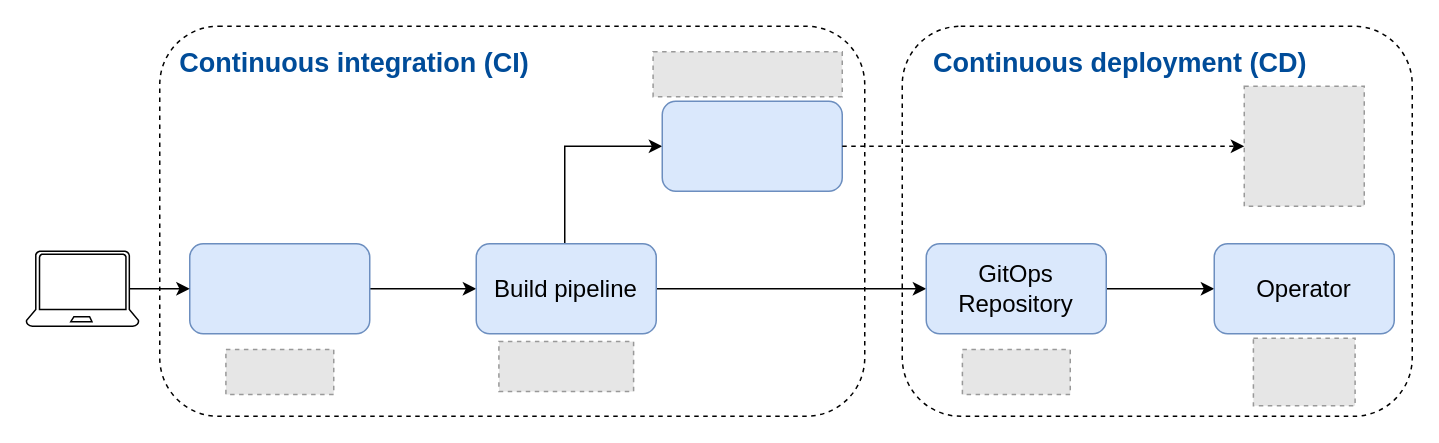
This 1439x443 diagram has some shape labels left out. Grey dashed boxes stand in for pictures. Each missing label, with the centre of its shape:
"Application repository" belongs at point (279, 288).
"Image registry" belongs at point (751, 145).
